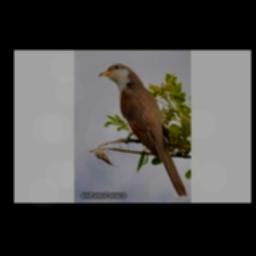Cuckoo: (99, 63, 187, 197)
